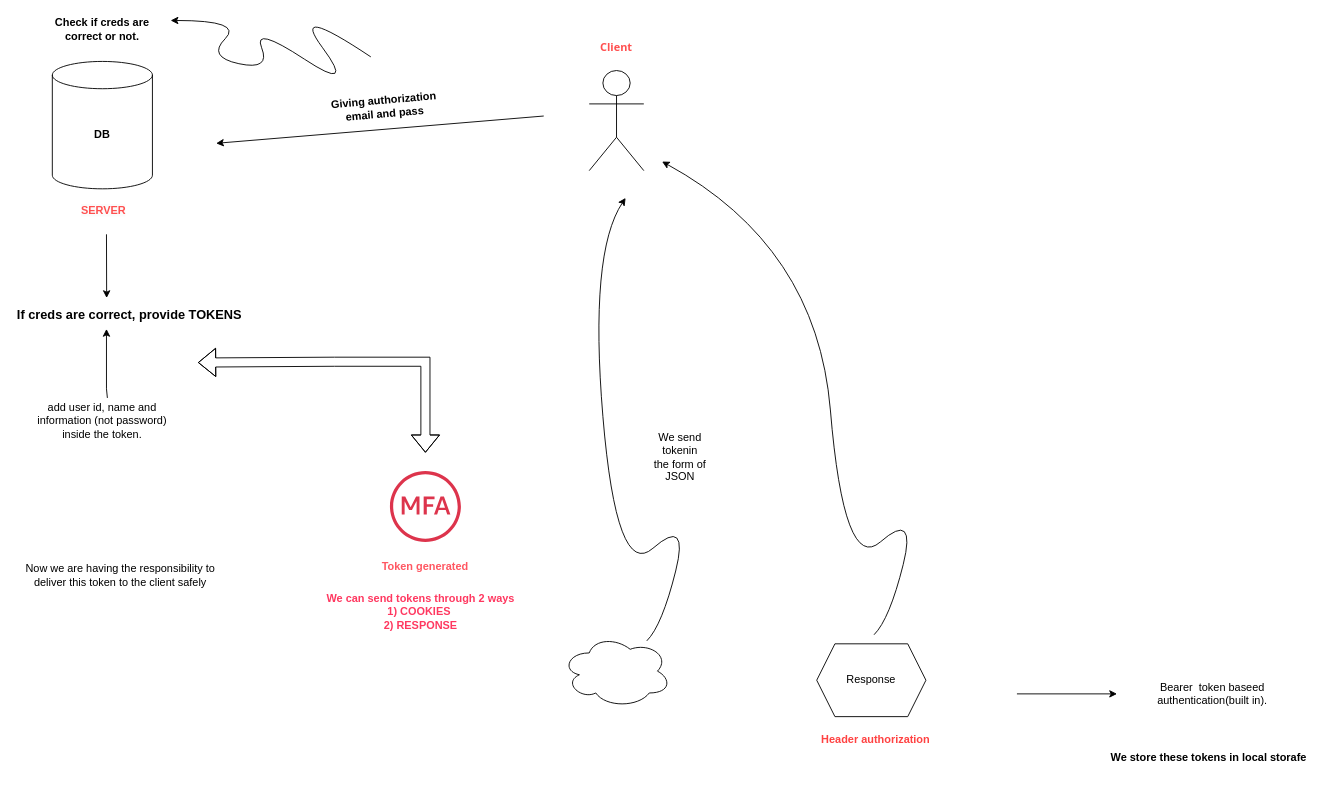
The diagram is 1324 pixels wide and 786 high, and some of its shapes have lost their labels. Each missing label, with the box of its shape:
Actor: (588, 70, 644, 171)
COOKIE: (561, 634, 671, 708)
